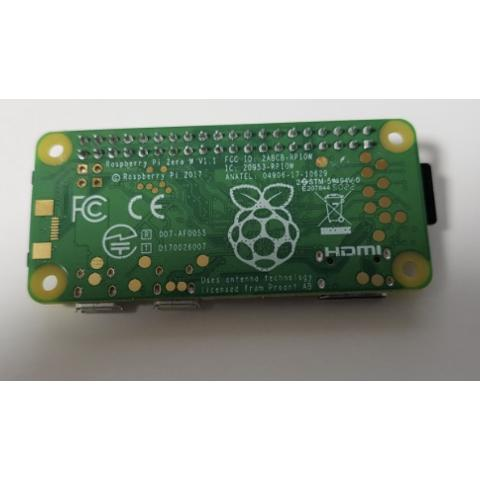Raspberry-Pi-Zero-WH: (26, 119, 438, 315)
